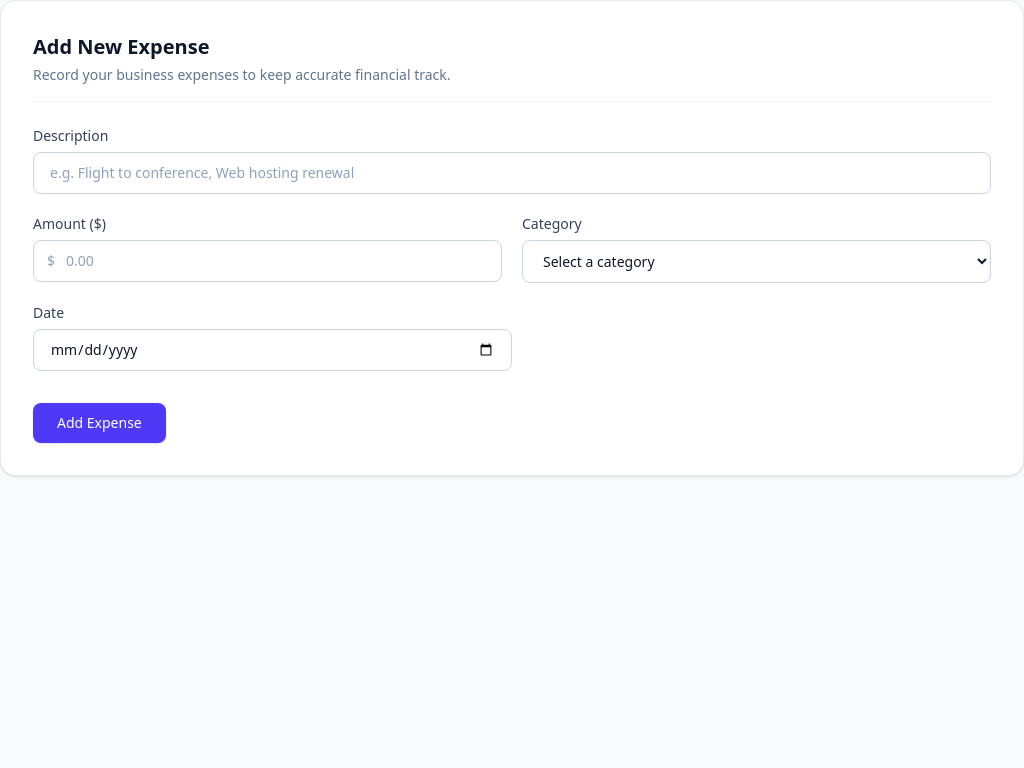
Scenario: ExpenseForm Component › displays inline errors when submitting an empty form
The image size is (1024, 768).
Click the button "Add Expense". click: (99, 423)
box: [33, 403, 166, 443]
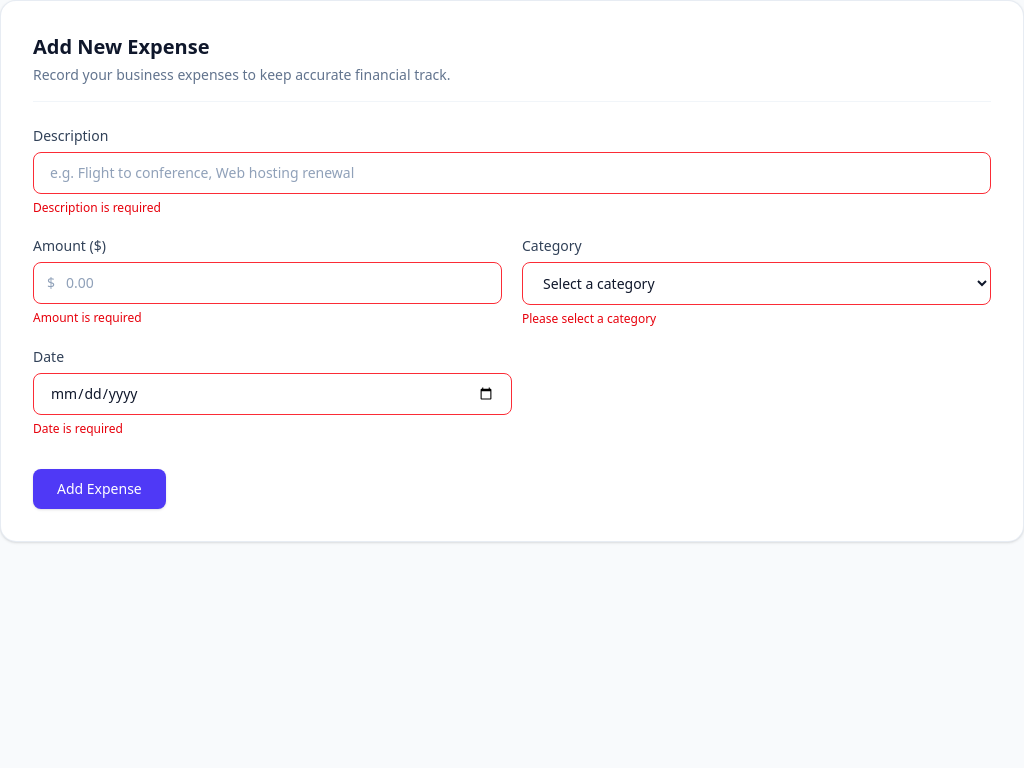
expect the text "Description is required" is shown: met, box [33, 199, 161, 216]
expect the text "Amount is required" is shown: met, box [33, 309, 142, 326]
expect the text "Please select a category" is shown: met, box [522, 310, 656, 327]
